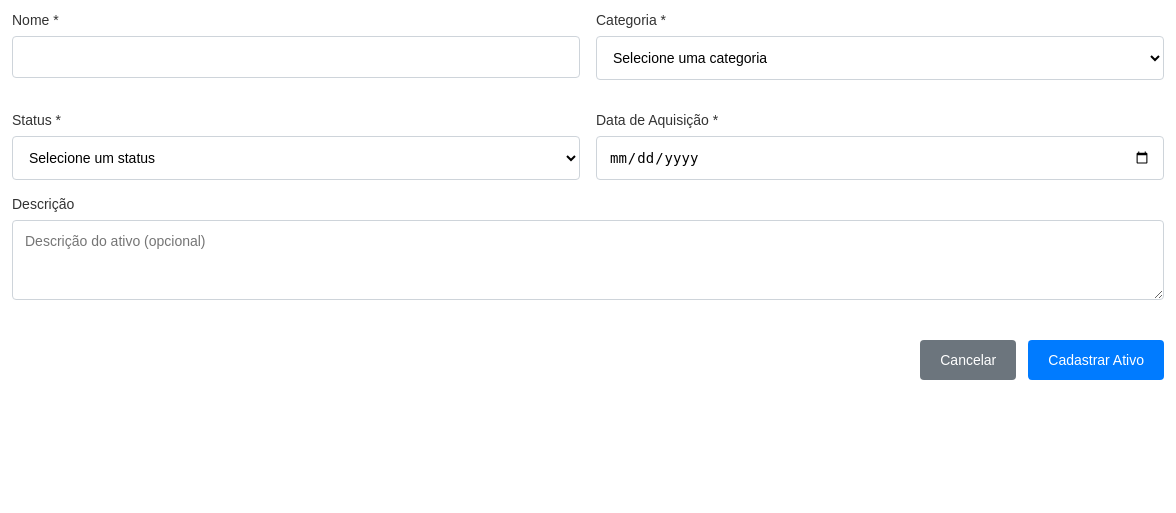
AssetForm › deve validar campos obrigatórios de equipamento e exibir erros
In the field labelled "Nome *": (296,57) [12,36,580,78], type "Impressora"
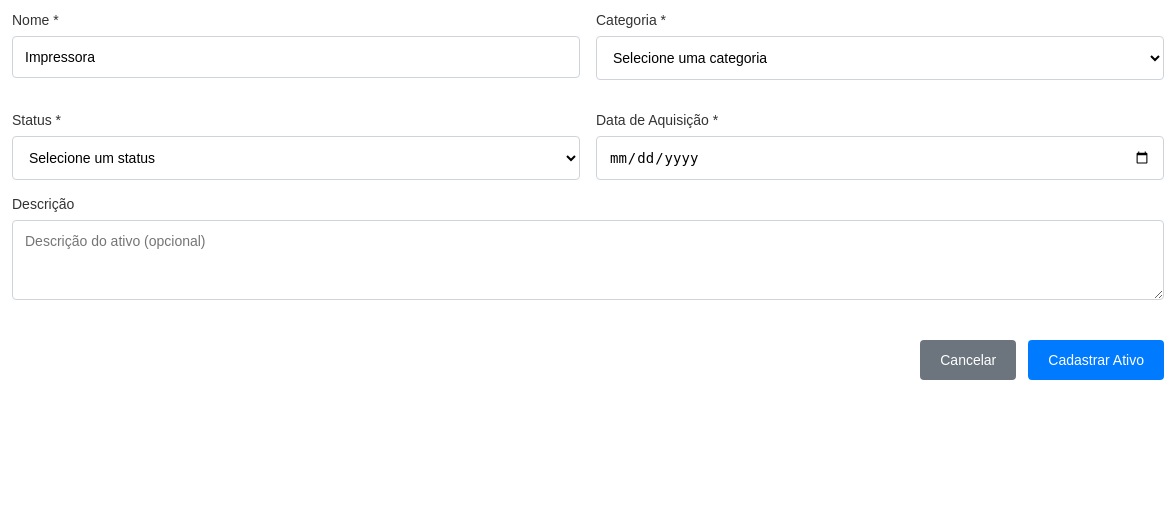
Select "Equipamento" in the dropdown labelled "Categoria *": (880,58) [596,36,1164,80]
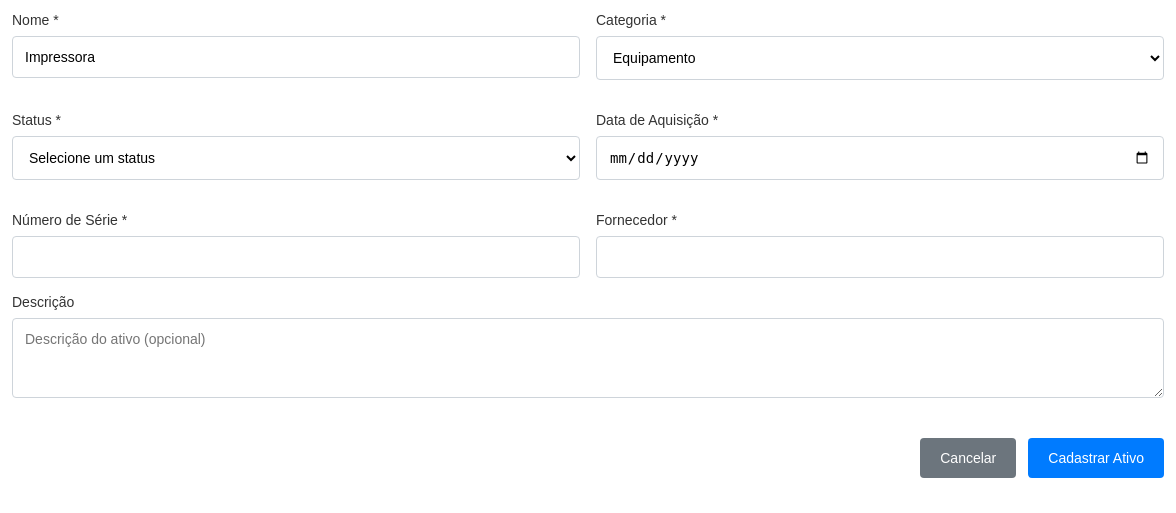
Select "Ativo" in the dropdown labelled "Status *": (296,158) [12,136,580,180]
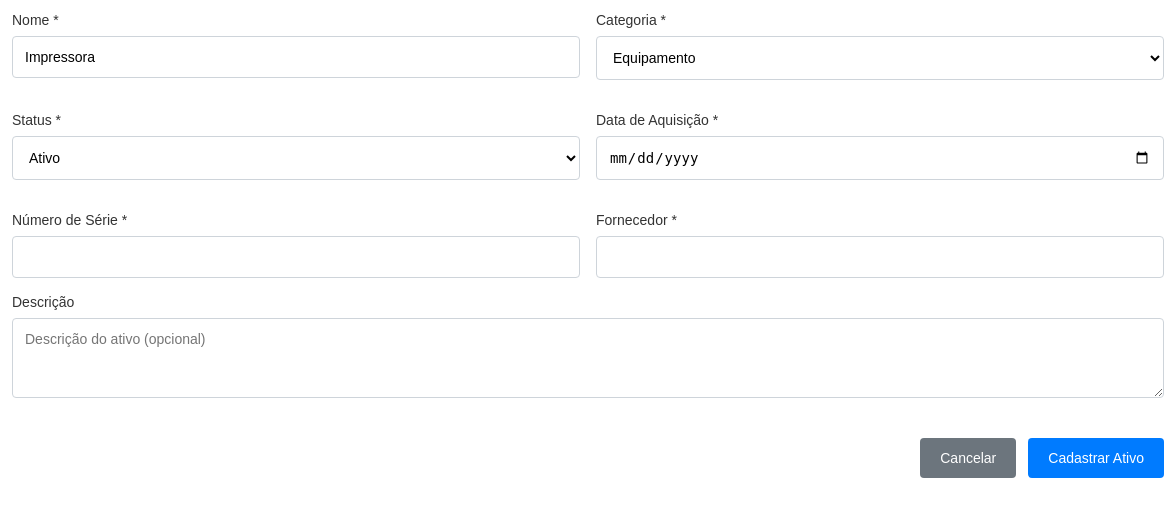
In the date field labelled "Data de Aquisição *": (880,158) [596,136,1164,180], type "2024-06-01"
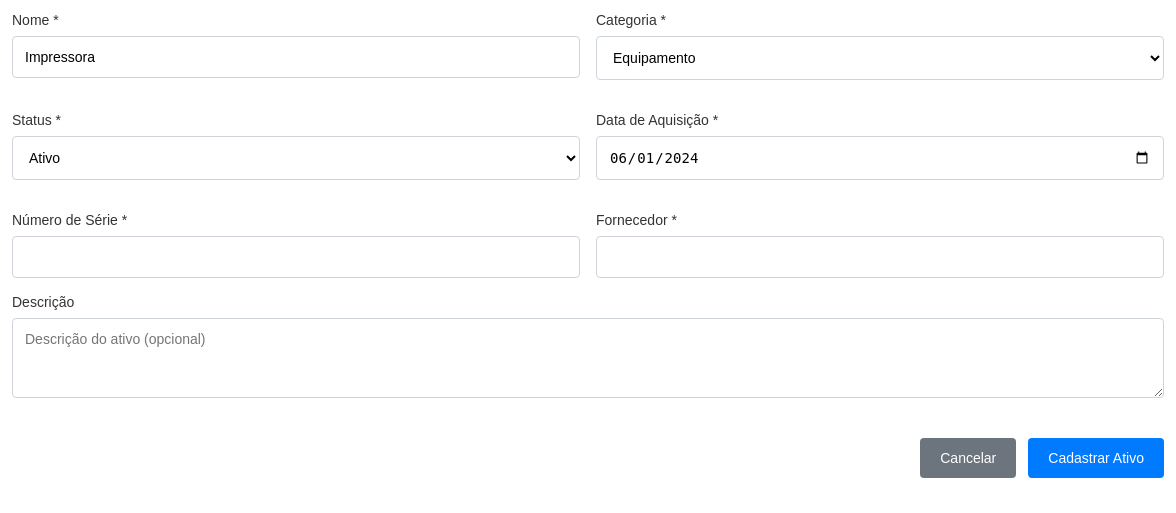
Click the button "Cadastrar Ativo": (1096,458) [1028,438,1164,478]
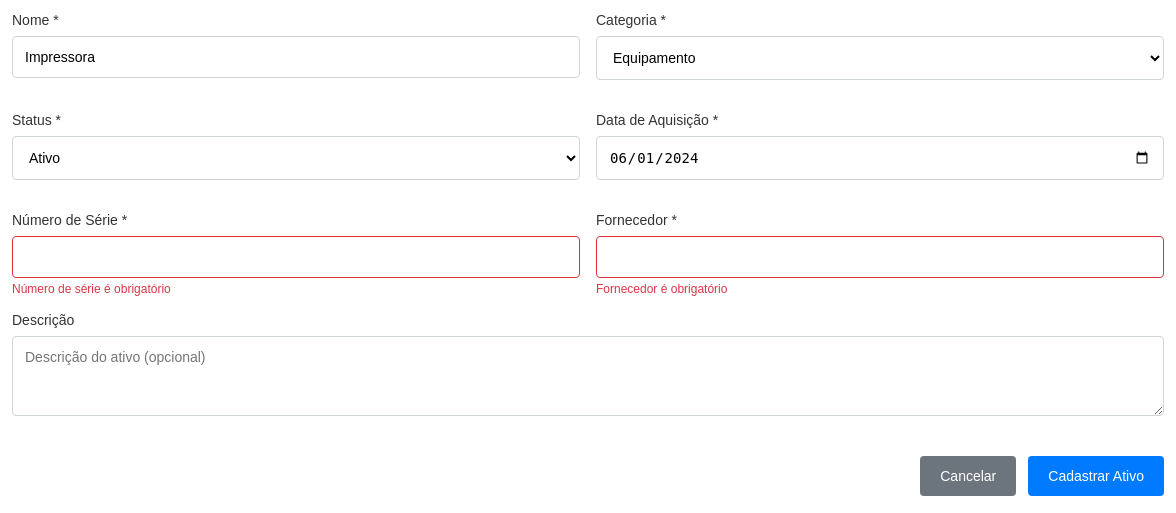
Now the text "Número de série é obrigatório" is shown, box [12,282,171,296]
Now the text "Fornecedor é obrigatório" is shown, box [596,282,727,296]
